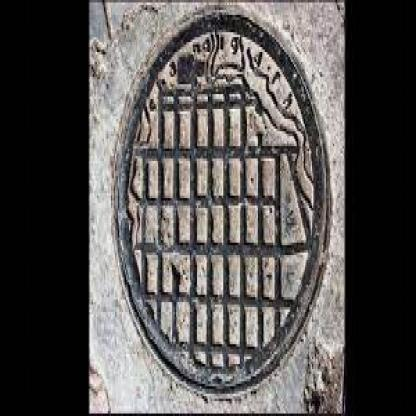open manhole-not overflowing-: (115, 23, 335, 413)
